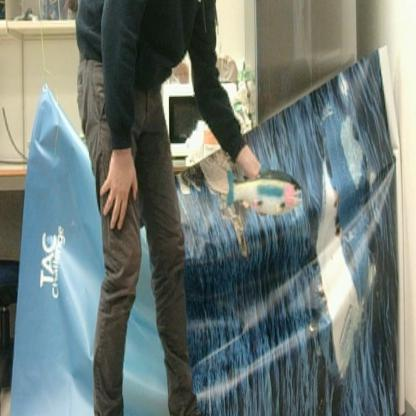rubberfish: (223, 165, 306, 217)
